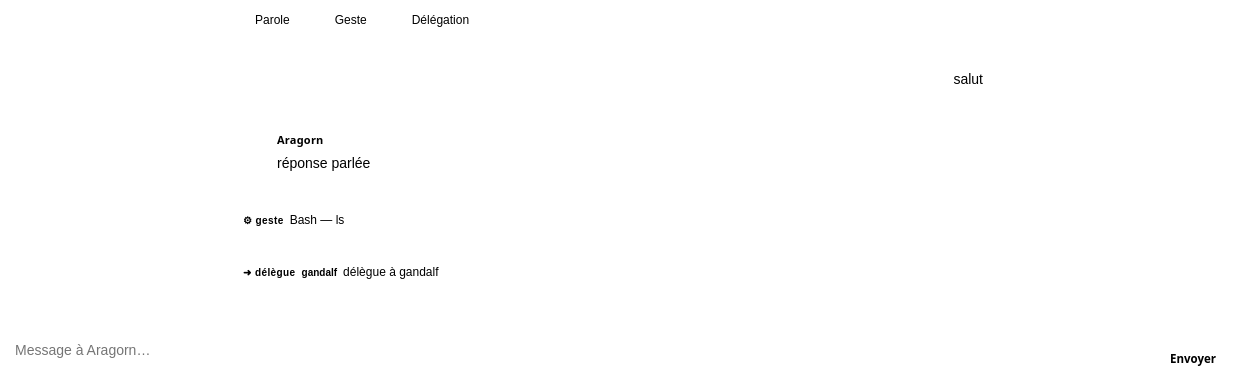
it: Chat — filtres de canaux (L27) › masquer un canal (geste) retire ses tours ; le ré-afficher les ramène
Check: the text "Bash — ls" is shown, box top-left (290, 211), bottom-right (344, 229)
Click the button "Geste": x=344, y=20 top-left (310, 8), bottom-right (379, 32)
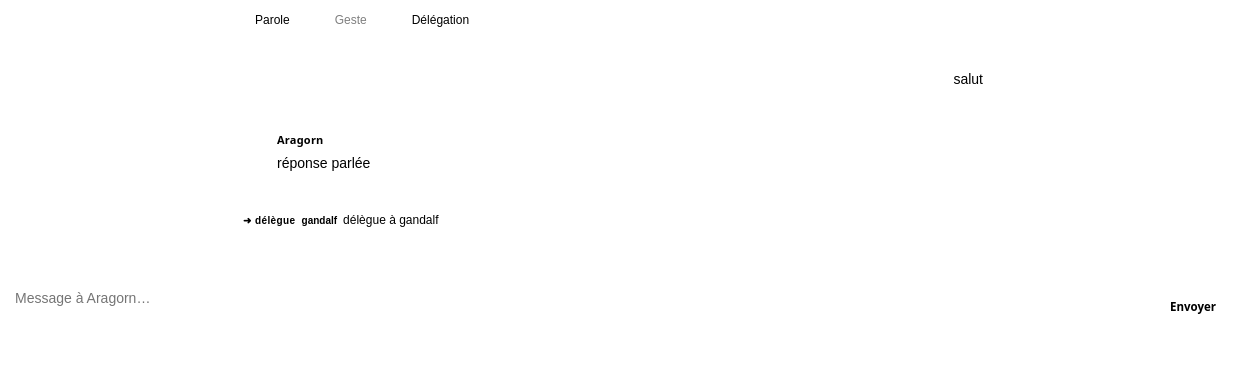
Check: the text "Bash — ls" is gone
Click the button "Geste": x=344, y=20 top-left (310, 8), bottom-right (379, 32)
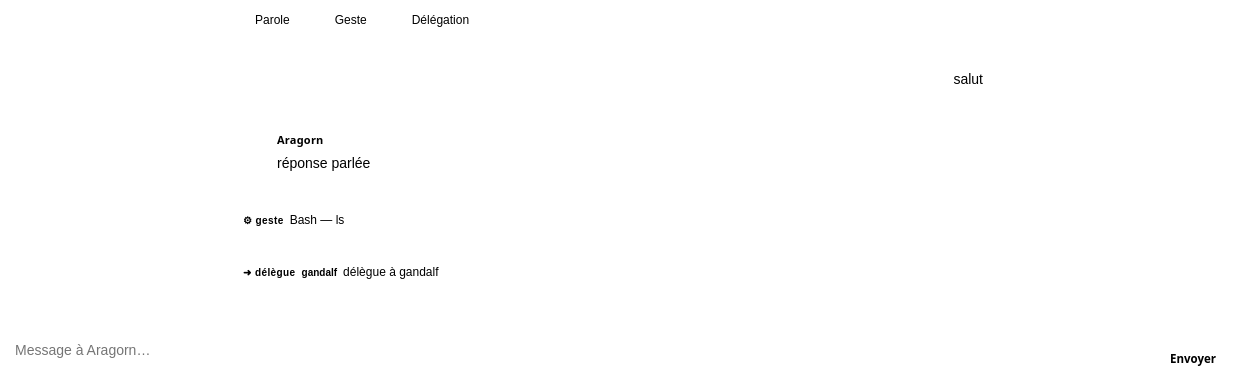
Check: the text "Bash — ls" is shown, box top-left (290, 211), bottom-right (344, 229)
